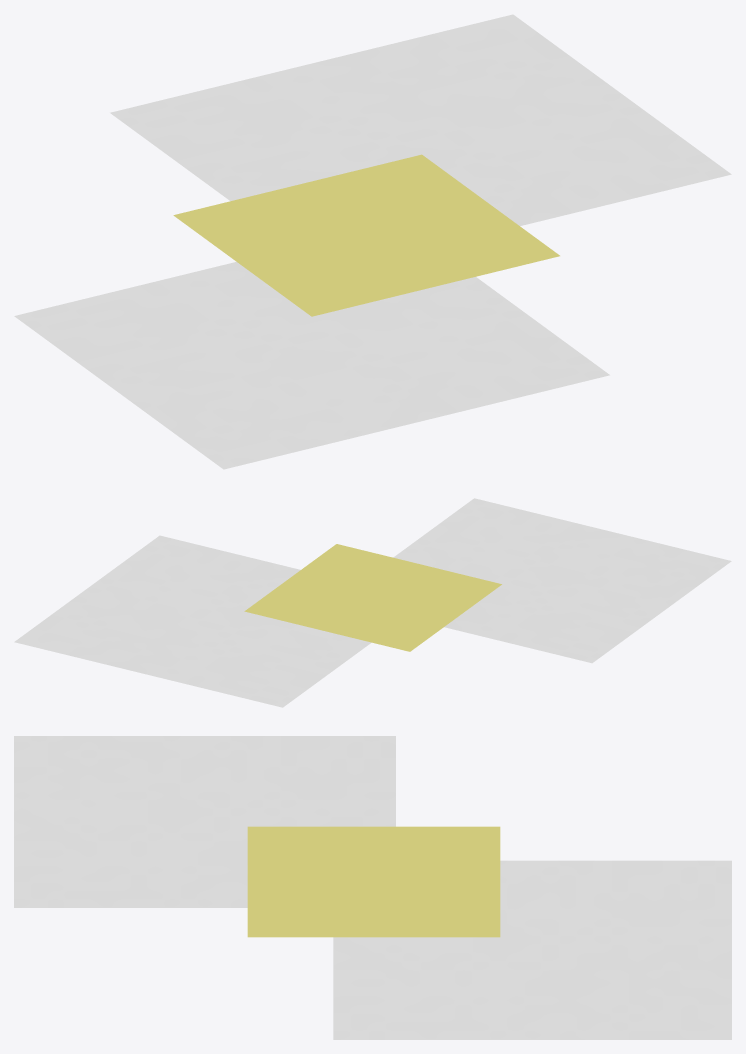
File: flower_mesh.fbx
3 renders of one model, top to bottom at view 1: azimuth 30°, elevation 25°; view 2: azimuth 150°, elevation 25°; view 3: azimuth 270°, elevation 25°, orthographic. The views are drawn at different scales.
Parts seen in each view (by area): view 1: flower_mesh; view 2: flower_mesh; view 3: flower_mesh.
Boxes of the visible parts, x1,y1,x2,y2 form: flower_mesh: [14, 14, 731, 469]; flower_mesh: [14, 498, 731, 707]; flower_mesh: [14, 736, 731, 1039].
Size of the model in its own units: 0.4421 by 0.00384 by 0.4414.
